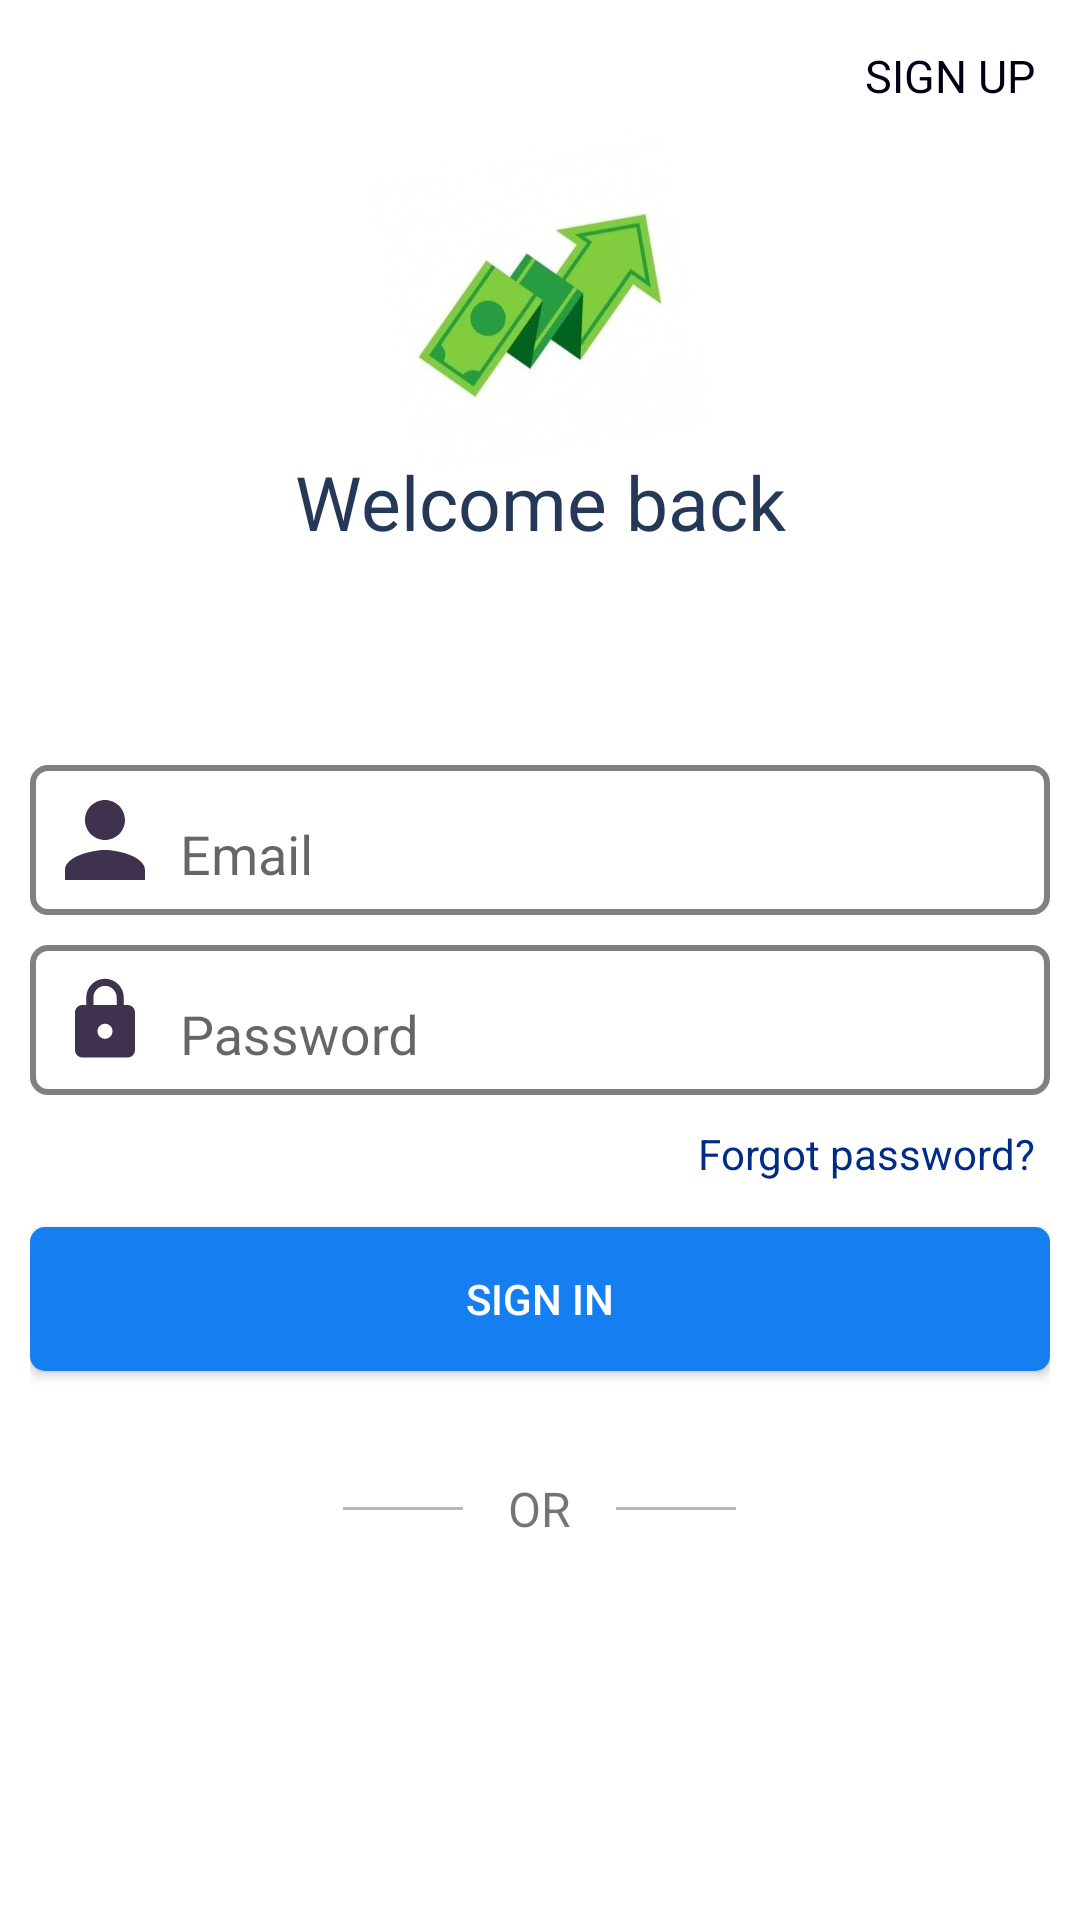

Icons on this 1080px×1920px Android screen, each with the point to tap as point (x, y):
lock: point (105, 1018)
user: point (105, 840)
